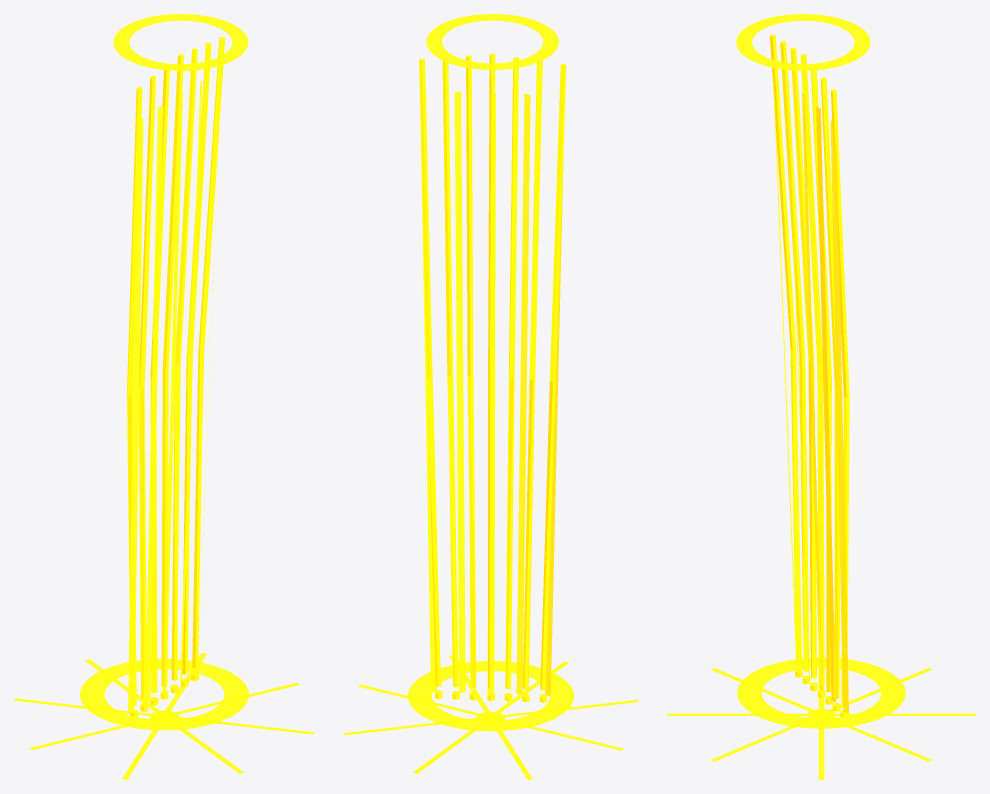
The model's file is knowledgebase-waterfall-session70.glb.
The picture shows the model from 3 angles, left to right: view 1: azimuth 30°, elevation 25°; view 2: azimuth 150°, elevation 25°; view 3: azimuth 270°, elevation 25°; orthographic projection.
Parts seen in each view (by area): view 1: knowledgebase_energy_waterfall_v2; view 2: knowledgebase_energy_waterfall_v2; view 3: knowledgebase_energy_waterfall_v2.
Part boxes in pixels (box(x1,y1,x2,y2)): knowledgebase_energy_waterfall_v2: box(14, 14, 314, 779); knowledgebase_energy_waterfall_v2: box(343, 14, 638, 779); knowledgebase_energy_waterfall_v2: box(667, 14, 975, 779).
Size of the model in its own units: 5.4 by 13.07 by 5.4.
